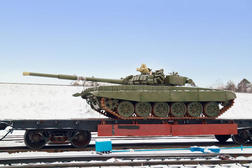t72: (21, 69, 241, 118)
